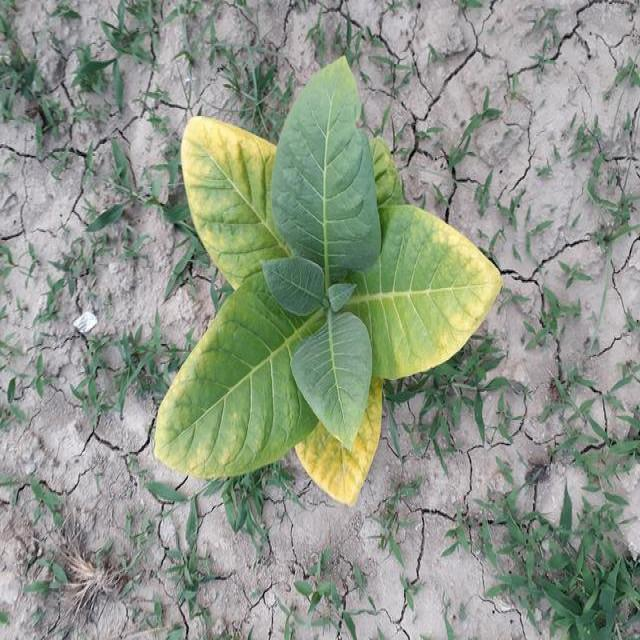crop: (149, 47, 514, 514)
